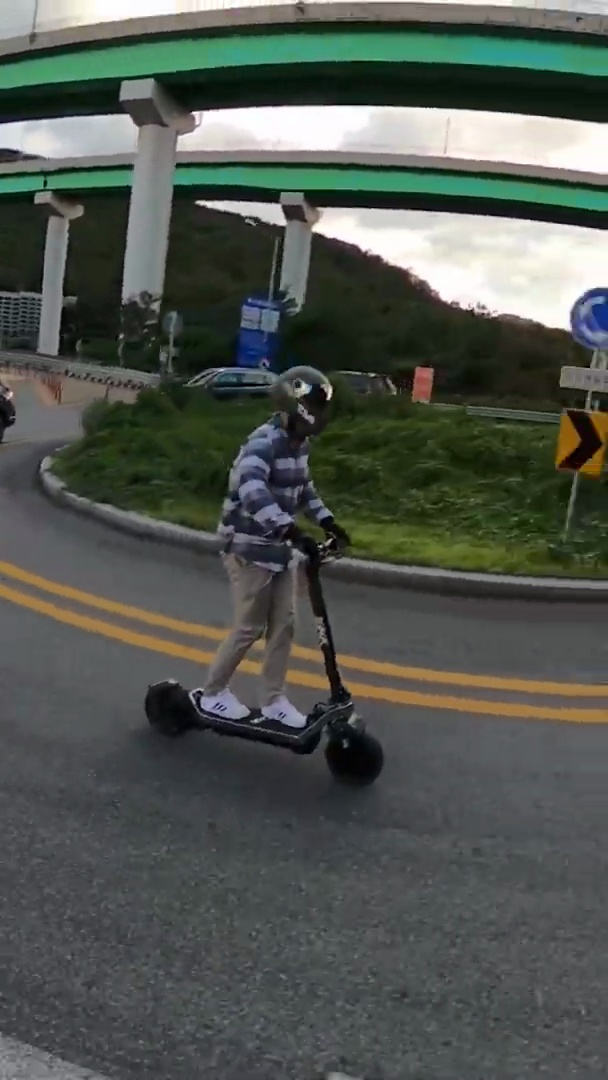helmet: (146, 361, 385, 789)
